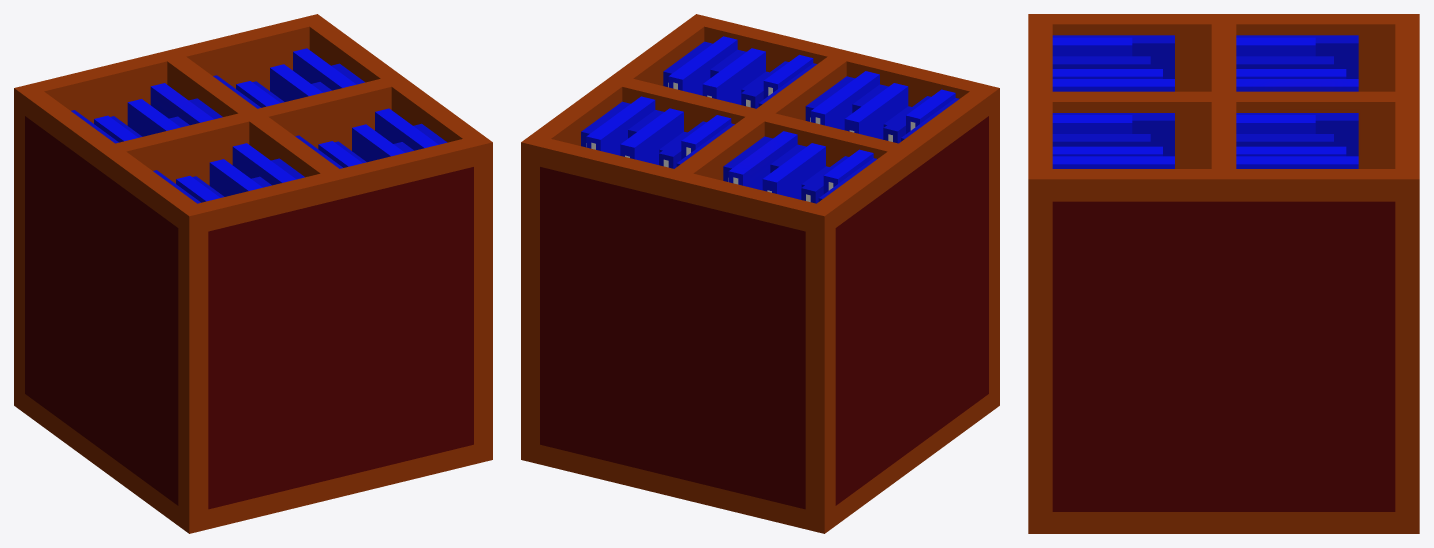
File: NormalBlock.fbx
3 renders of one model, left to right at view 1: azimuth 30°, elevation 25°; view 2: azimuth 150°, elevation 25°; view 3: azimuth 270°, elevation 25°, orthographic. The views are drawn at different scales.
Visible parts, largest first — view 1: NormalBlock; view 2: NormalBlock; view 3: NormalBlock.
Part boxes in pixels (x1,y1,x2,y2): NormalBlock: (14,14,492,533); NormalBlock: (521,14,999,533); NormalBlock: (1028,14,1419,533).
Size of the model in its own units: 400 by 400 by 400.
